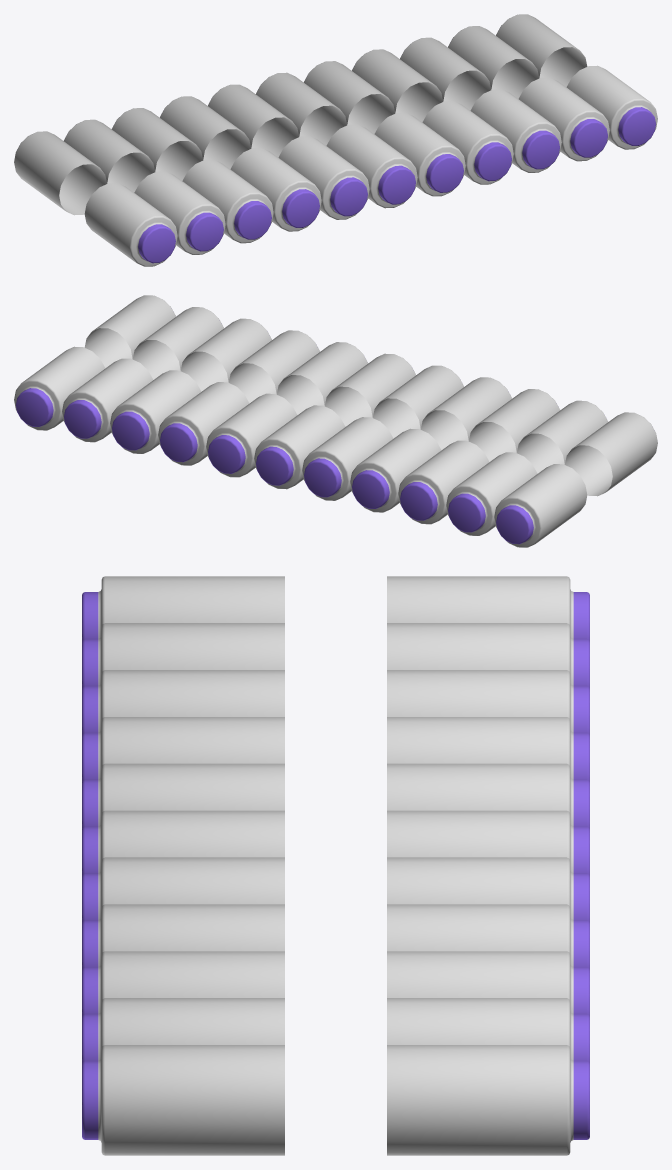
File: TapisRoulantInte.fbx
The picture shows the model from 3 angles, top to bottom: view 1: azimuth 30°, elevation 25°; view 2: azimuth 150°, elevation 25°; view 3: azimuth 270°, elevation 25°; orthographic projection. The views are drawn at different scales.
Visible parts, largest first — view 1: Cube.011; view 2: Cube.011; view 3: Cube.011.
Boxes of the visible parts, x1,y1,x2,y2 form: Cube.011: (14,14,657,266); Cube.011: (14,295,657,547); Cube.011: (82,576,589,1155).
Bounding box in the file's own units: 73.8 × 6.71 × 30.74.
